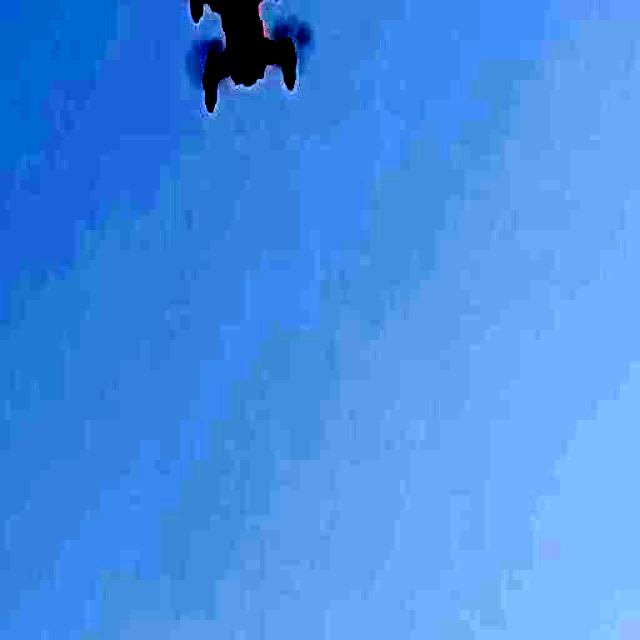bird: (168, 0, 310, 118)
